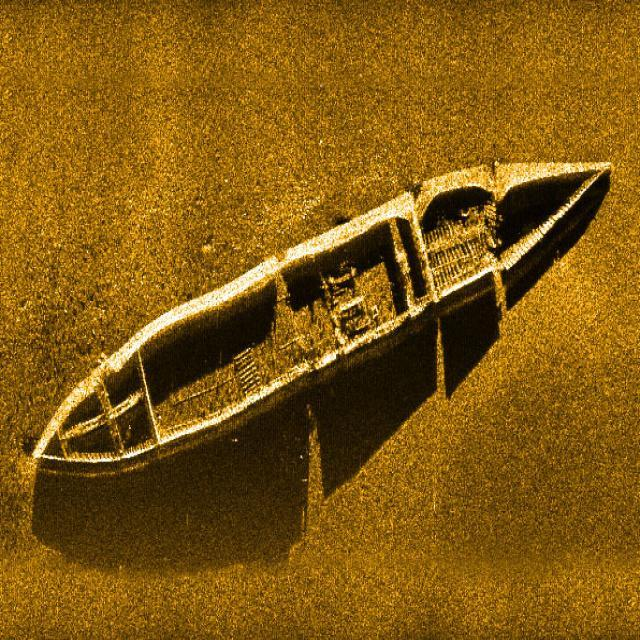shipwreck: (34, 142, 610, 482)
